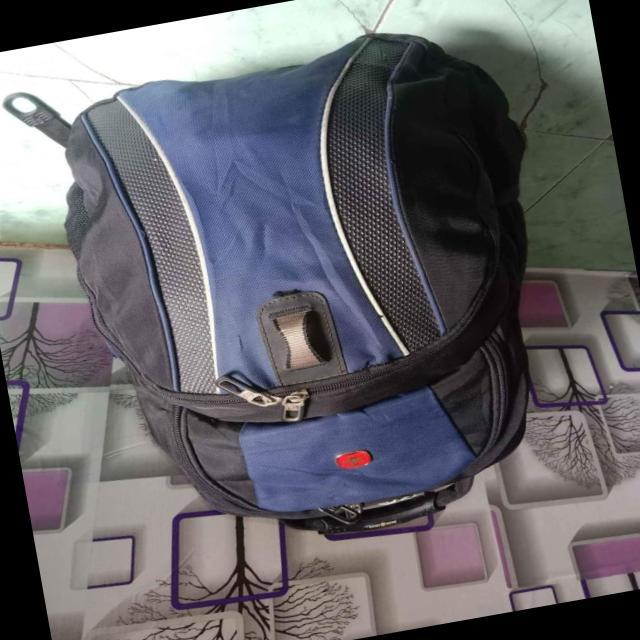bag: (63, 32, 530, 540)
